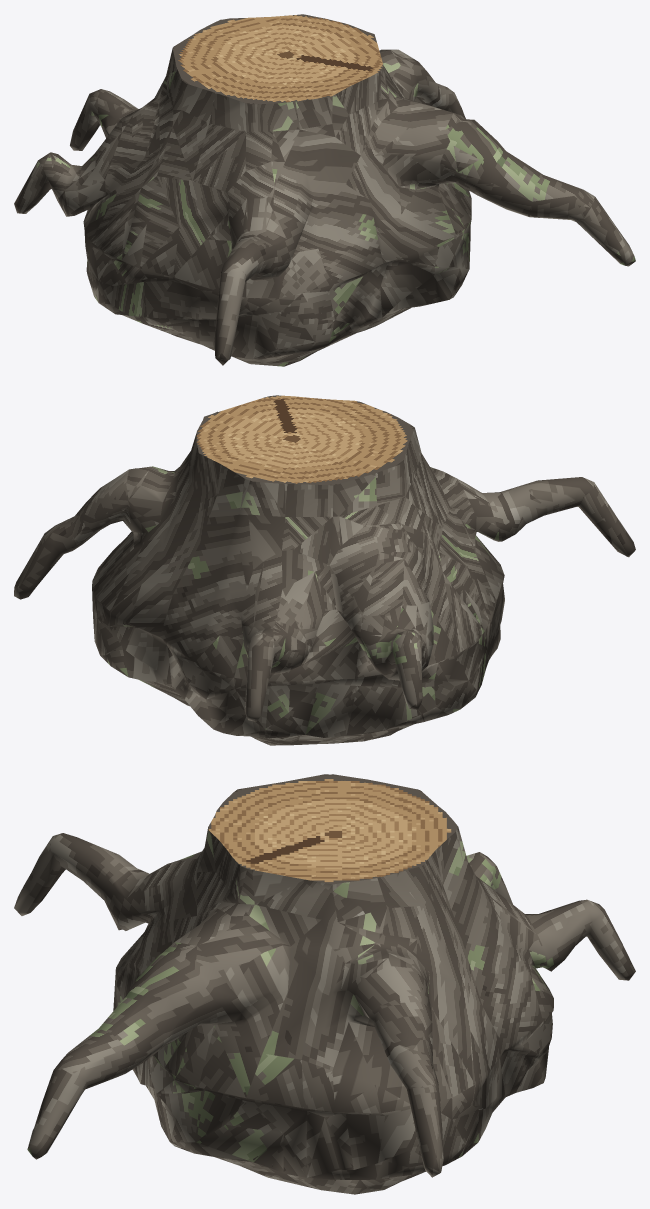
Rendered from environment_elm4_stump_v34.fbx.
3 views of the same model, one above another, from view 1: azimuth 30°, elevation 25°; view 2: azimuth 150°, elevation 25°; view 3: azimuth 270°, elevation 25° (orthographic). The views are drawn at different scales.
Parts seen in each view (by area): view 1: environment_elm4_stump_v34; view 2: environment_elm4_stump_v34; view 3: environment_elm4_stump_v34.
Part boxes in pixels (x1,y1,x2,y2): environment_elm4_stump_v34: (14, 14, 635, 366); environment_elm4_stump_v34: (14, 395, 635, 745); environment_elm4_stump_v34: (14, 774, 635, 1194).
Size of the model in its own units: 409 by 236 by 431.
2 materials, 2 textured.
